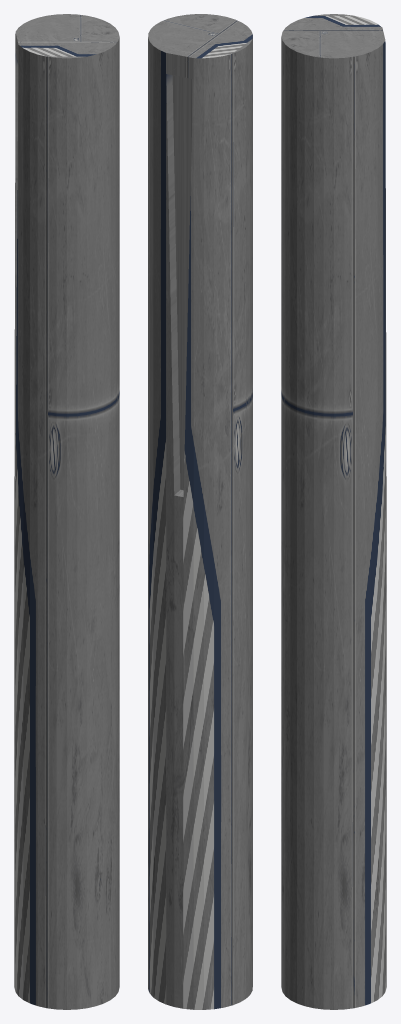
The model's file is test-arm.glb.
The picture shows the model from 3 angles, left to right: view 1: azimuth 90°, elevation 25°; view 2: azimuth 150°, elevation 25°; view 3: azimuth 270°, elevation 25°; orthographic projection.
Visible parts, largest first — view 1: Cylinder; view 2: Cylinder; view 3: Cylinder.
Boxes of the visible parts, x1,y1,x2,y2 form: Cylinder: (14,14,119,1009); Cylinder: (148,14,252,1009); Cylinder: (281,14,386,1009).
Size of the model in its own units: 0.2 by 2 by 0.2.
Materials: 1 (1 with a texture image).
